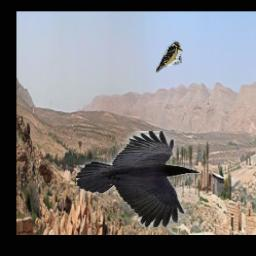Crow: (76, 131, 199, 227)
Woodpecker: (156, 41, 183, 73)
